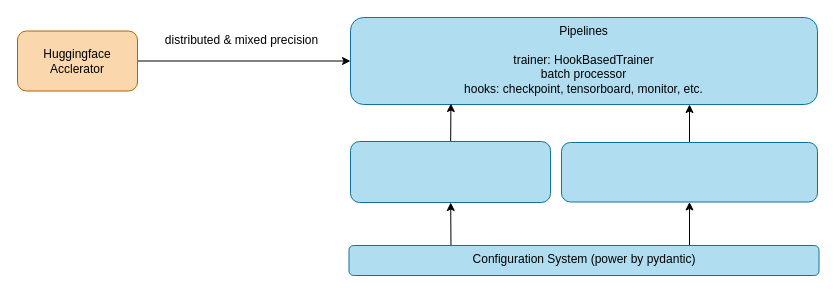
The diagram is 837 pixels wide and 293 high, and some of its shapes have lost their labels. Here are the shapes that lost their labels. From the top down, the centre of each, then its label:
(450,171): Data dataset: embodiedscan, robotwin transforms, sampler
(689,172): Models perceptions: BIP3D embodied: SEM, grasp, whole-body control
